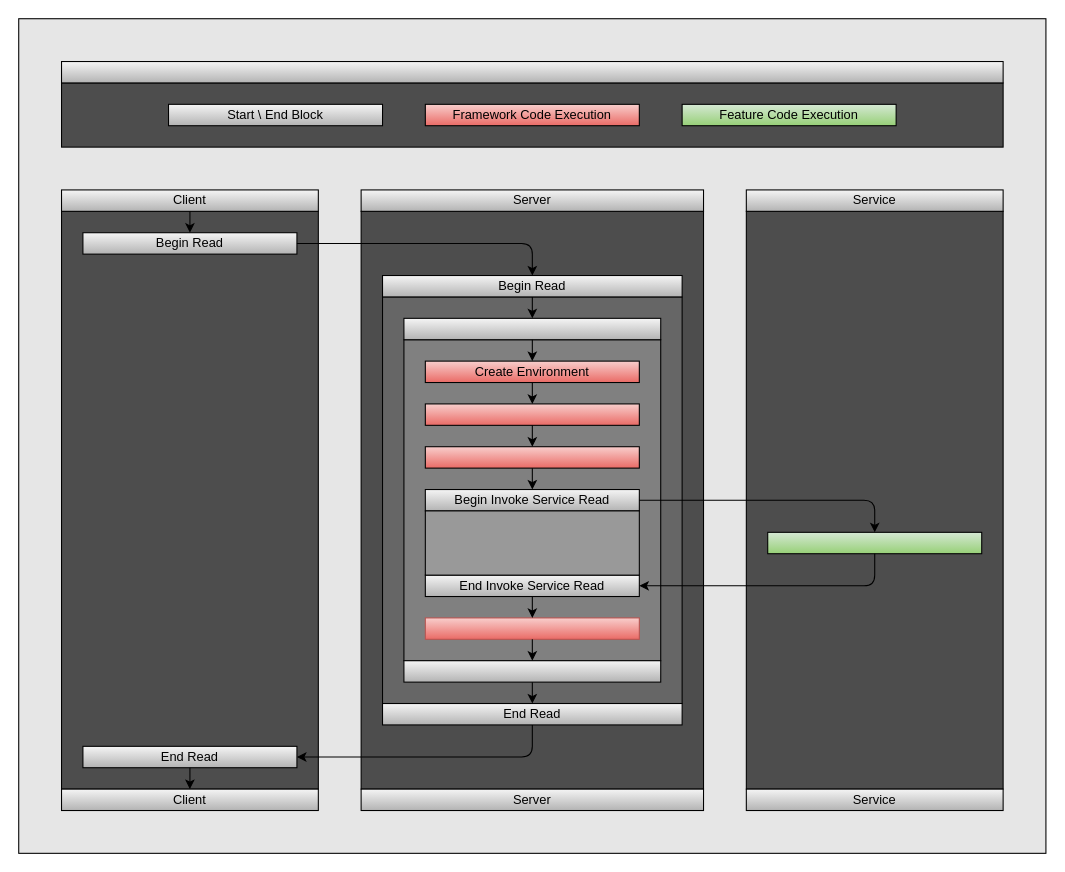
The diagram is 1065 pixels wide and 872 high, and some of its shapes have lost their labels. Here are the shapes that lost their labels. From the top down, the box of each, then its label:
(60, 60, 1003, 83): Legend
(403, 317, 661, 340): Begin Invoke Service
(424, 403, 639, 425): Create Service
(424, 446, 639, 468): Parse Json To DataRequest
(767, 531, 982, 554): Read
(424, 617, 639, 639): Parse DataResponse To Json
(403, 660, 661, 682): End Invoke Service
